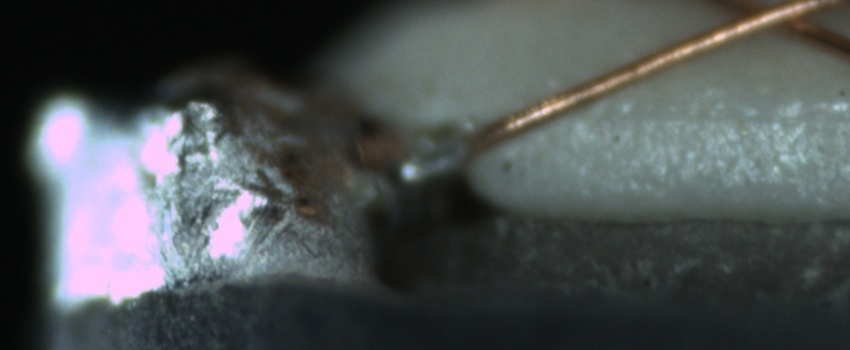CL: (710, 2, 830, 40)
DL: (570, 85, 841, 145)
TS: (397, 128, 473, 187)
